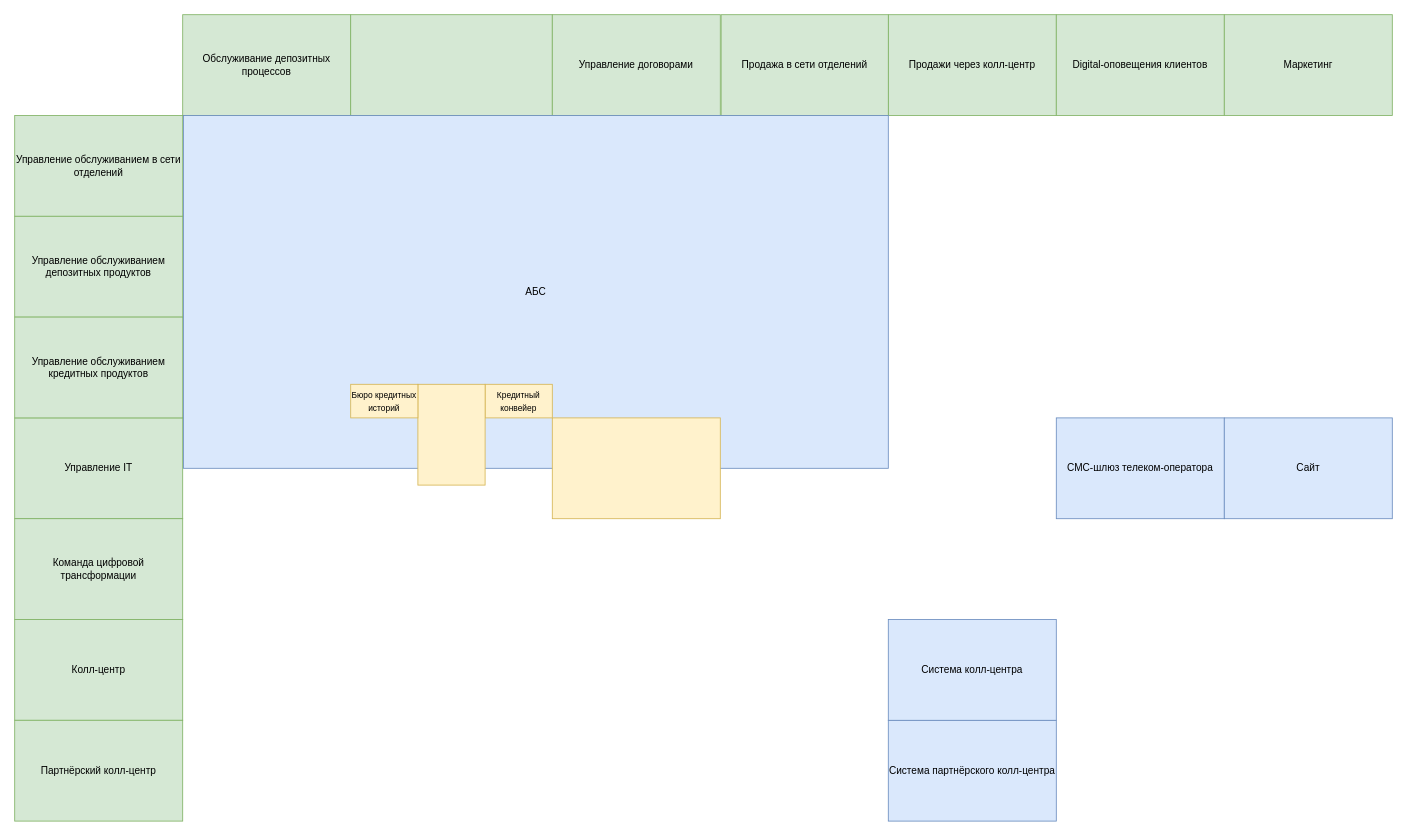
The diagram is 1407 pixels wide and 836 high, and some of its shapes have lost their labels. The centre of each missing label's shape, as x and y in pixels:
Интернет-банк: point (635, 468)
Обслуживание кредитных процессов: point (451, 65)
Система кредитного скоринга: point (451, 434)
